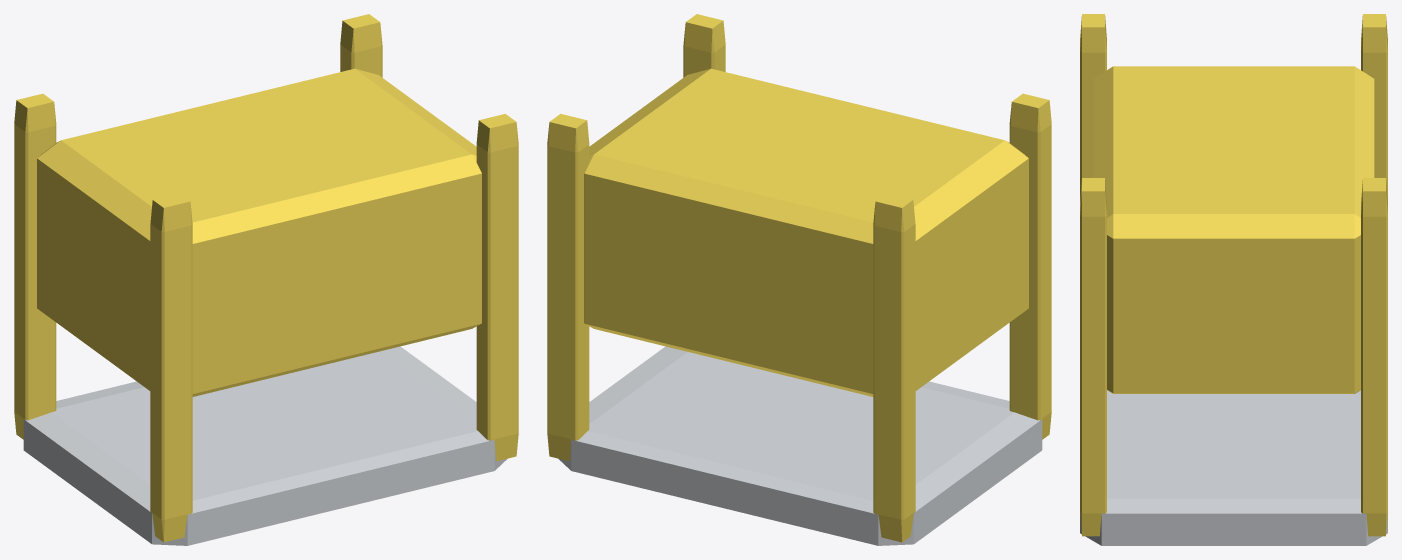
The model's file is b07_aggregate_feed_hopper.glb.
The picture shows the model from 3 angles, left to right: view 1: azimuth 30°, elevation 25°; view 2: azimuth 150°, elevation 25°; view 3: azimuth 270°, elevation 25°; orthographic projection. The views are drawn at different scales.
Visible parts, largest first — view 1: b07_aggregate_feed_hopper; view 2: b07_aggregate_feed_hopper; view 3: b07_aggregate_feed_hopper.
Part boxes in pixels (<box>): b07_aggregate_feed_hopper: <box>14,14,518,545</box>; b07_aggregate_feed_hopper: <box>547,14,1051,545</box>; b07_aggregate_feed_hopper: <box>1080,14,1387,545</box>.
Bounding box in the file's own units: 2.97 × 2.75 × 2.15.
